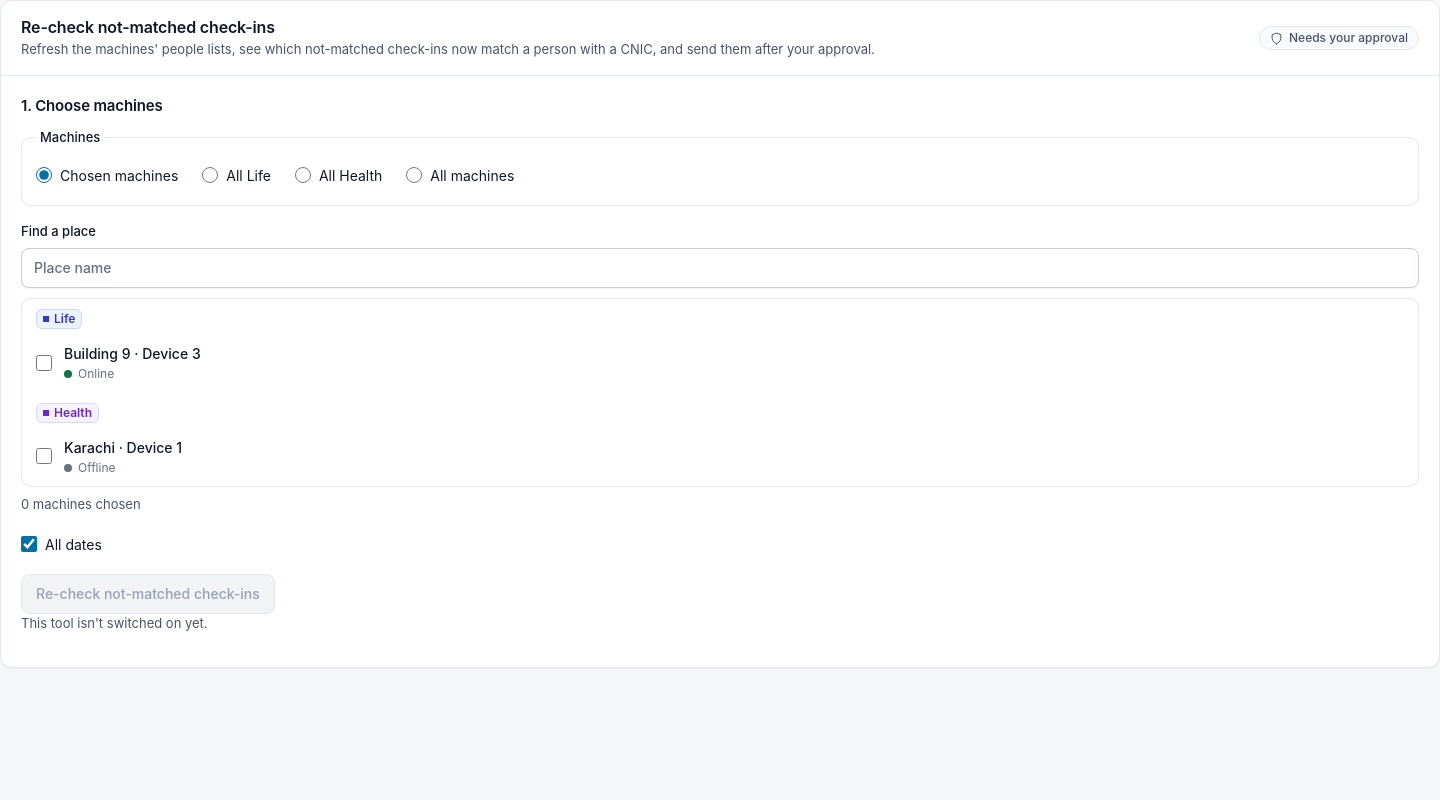
Test: offers All Life and All Health as chosen machines, grouped with friendly names
Expected: the text "Building 9 · Device 3" is shown, [64,343,201,364]
Step 1. Click the radio button labelled "All Life" → (210,175), box [202,167,218,183]
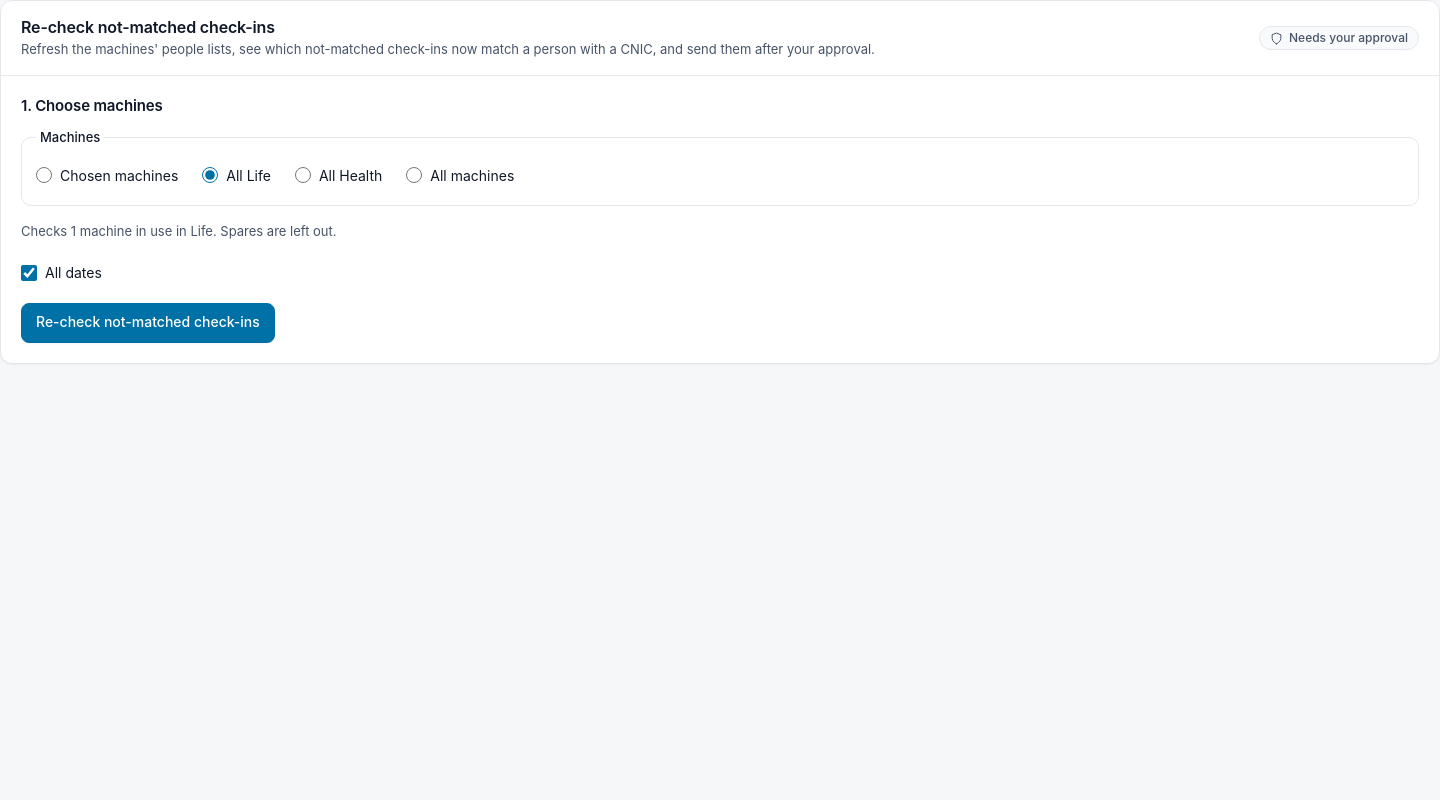
Expected: the button "Re-check not-matched check-ins" is enabled
Step 2. Click the button "Re-check not-matched check-ins" → (148,323), box [21,303,275,343]
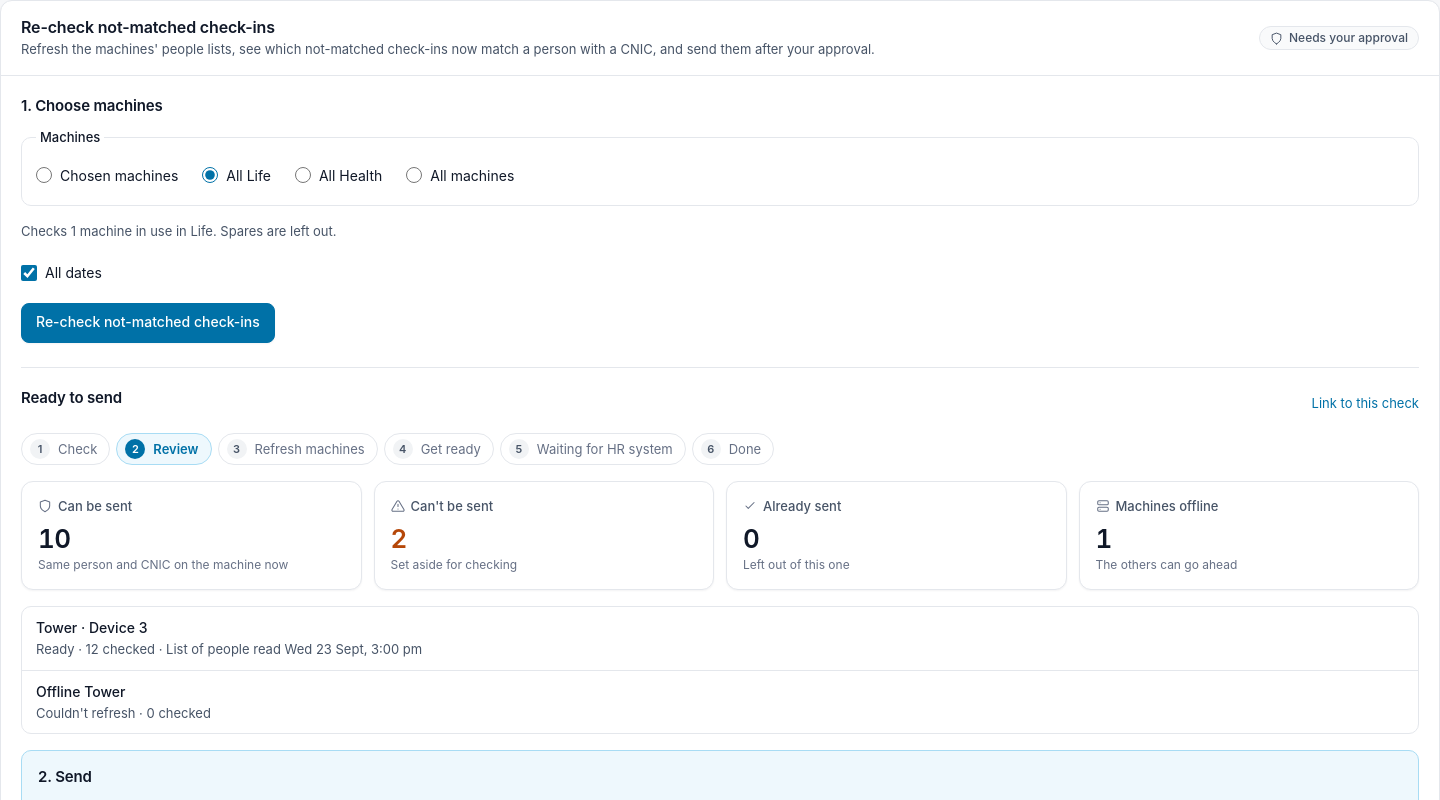
Expected: the heading "Ready to send" is shown, [21,388,122,407]
